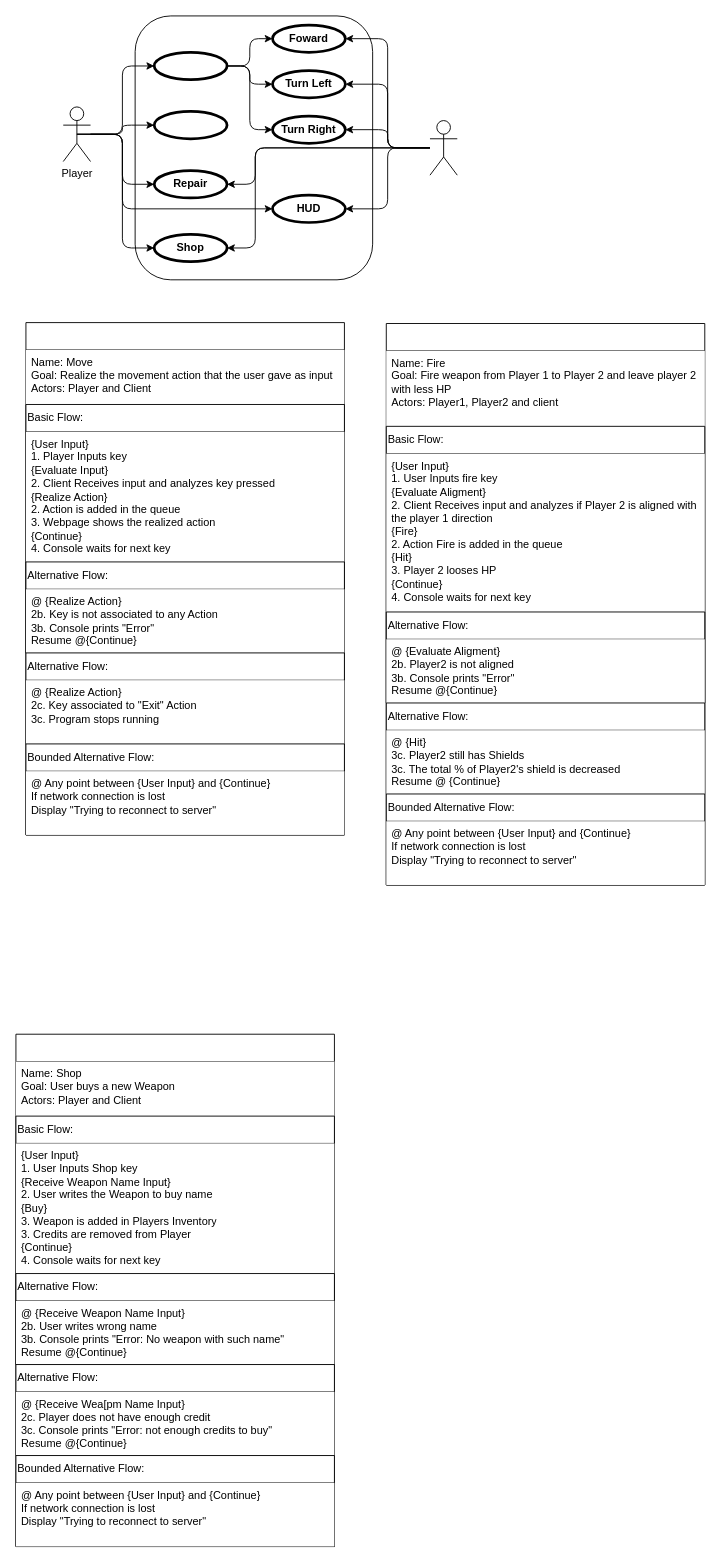
This 721x1565 diagram has some shape labels left out. Here are the shapes that lost their labels. From the top down, the centre of each, then its label:
At point (190, 66): "Move".
At point (190, 125): "Fire".
At point (443, 147): "Client".
